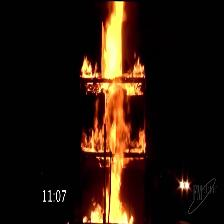fire: (97, 0, 131, 221)
